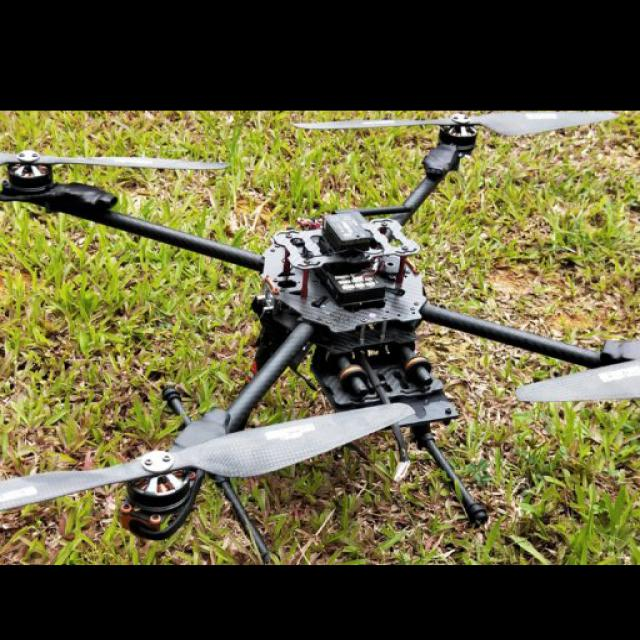drone: (0, 81, 640, 593)
